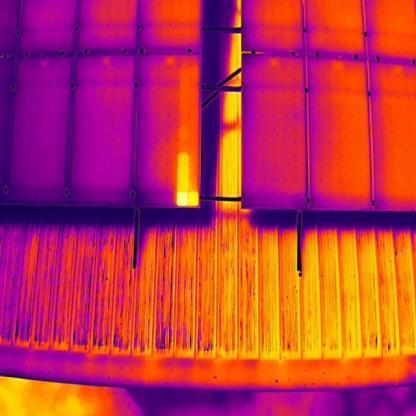anomaly: (171, 149, 201, 209)
